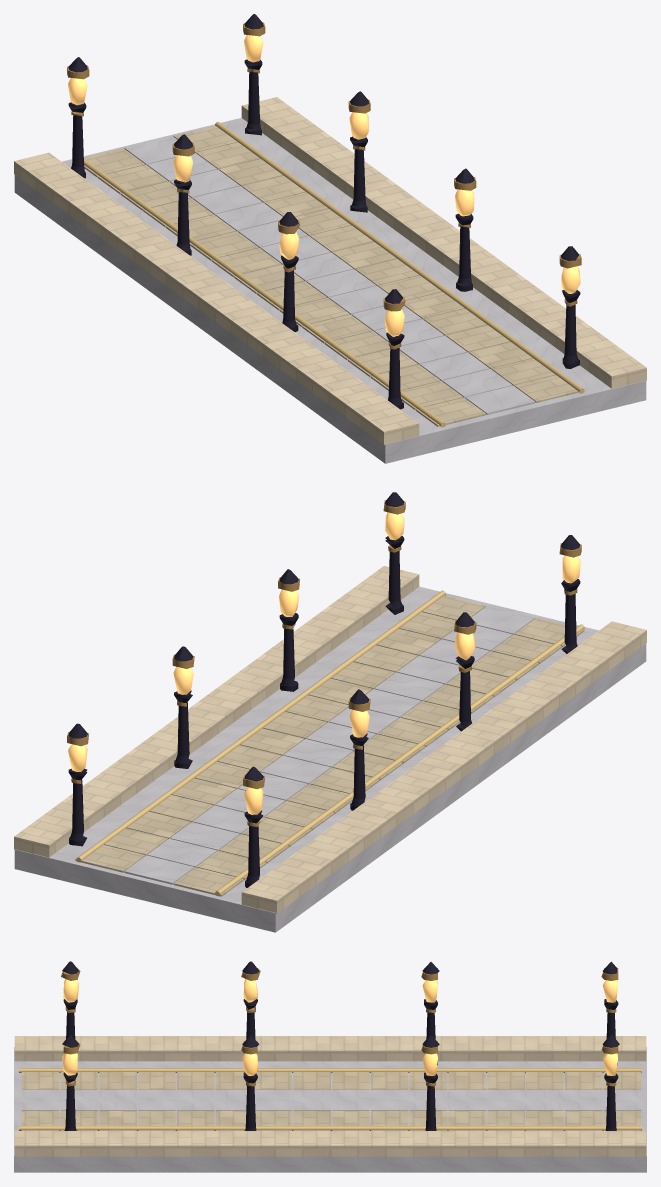
Rendered from ray-promenade-far.glb.
3 renders of one model, top to bottom at view 1: azimuth 30°, elevation 25°; view 2: azimuth 150°, elevation 25°; view 3: azimuth 270°, elevation 25°, orthographic. The views are drawn at different scales.
Size of the model in its own units: 5.08 by 2.58 by 12.4.
Materials: 7 (7 with a texture image).
